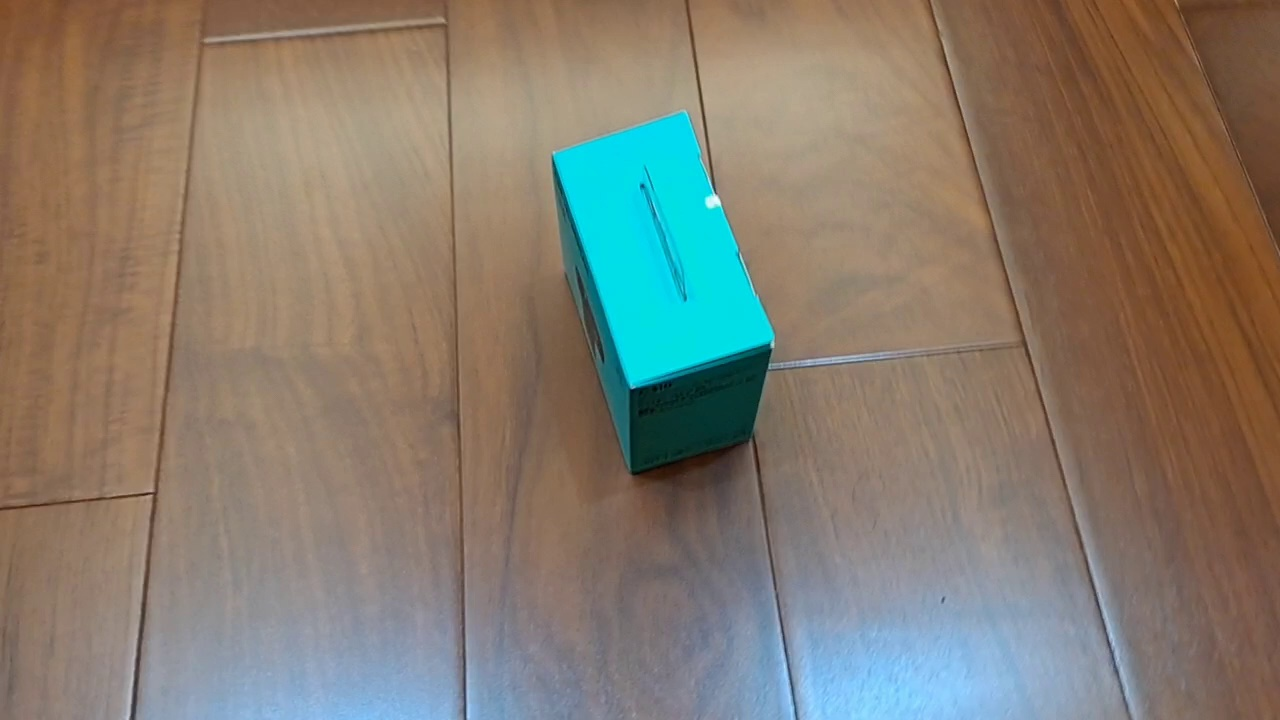webcam: (548, 107, 776, 477)
